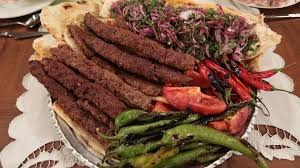kebap: (50, 47, 151, 110), (84, 14, 195, 69), (29, 61, 107, 133), (84, 36, 189, 83), (43, 59, 126, 118)
